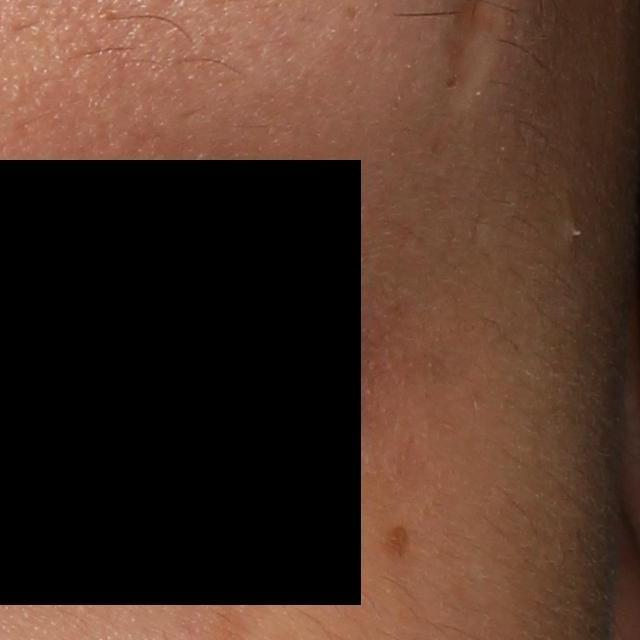melasma: (380, 521, 415, 563)
